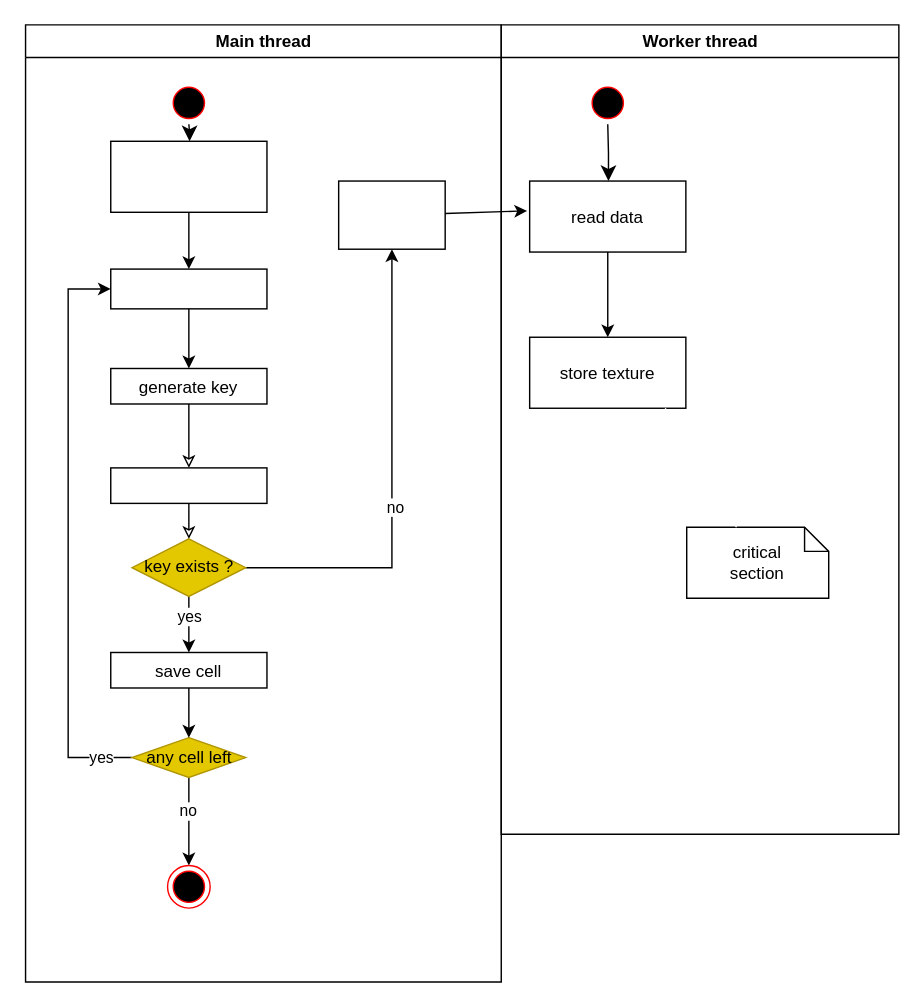
The diagram is 923 pixels wide and 1007 high, and some of its shapes have lost their labels. The shapes that lost their labels are listed below. From the top down, each one's centre as x and y in pixels, then its label:
At (188,176): "read NBG".
At (391,214): "spawn task".
At (188,288): "read cell".
At (188,484): "check key existence".
